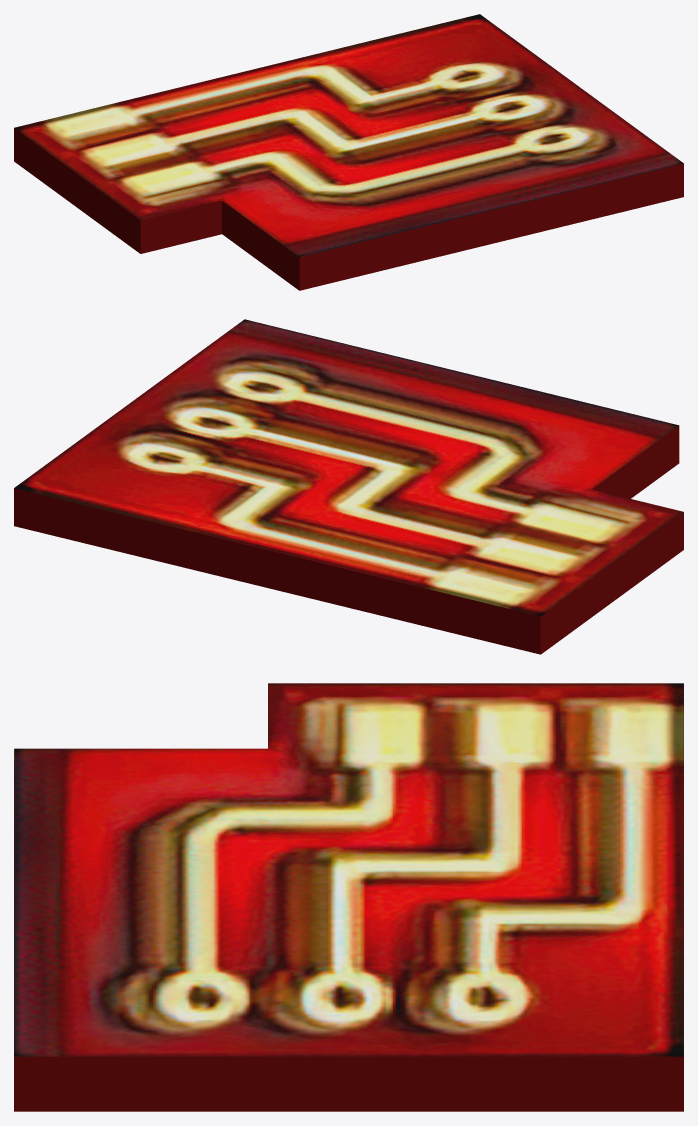
Rendered from static.fbx.
3 views of the same model, one above another, from view 1: azimuth 30°, elevation 25°; view 2: azimuth 150°, elevation 25°; view 3: azimuth 270°, elevation 25° (orthographic). The views are drawn at different scales.
Visible parts, largest first — view 1: Boole; view 2: Boole; view 3: Boole.
Part boxes in pixels (x1=…): Boole: x1=14, y1=14, x2=683, y2=290; Boole: x1=14, y1=319, x2=683, y2=654; Boole: x1=14, y1=683, x2=683, y2=1111.
Bounding box in the file's own units: 96.01 × 6.62 × 72.81.
2 materials, 2 textured.
